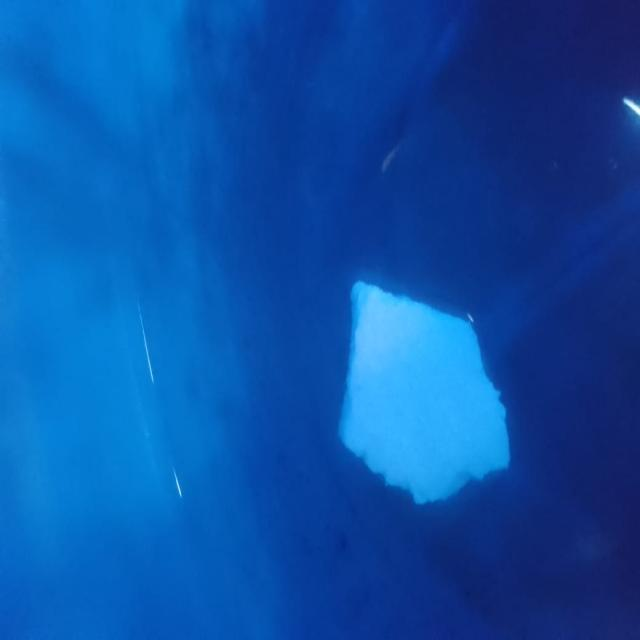litter: (342, 263, 517, 509)
